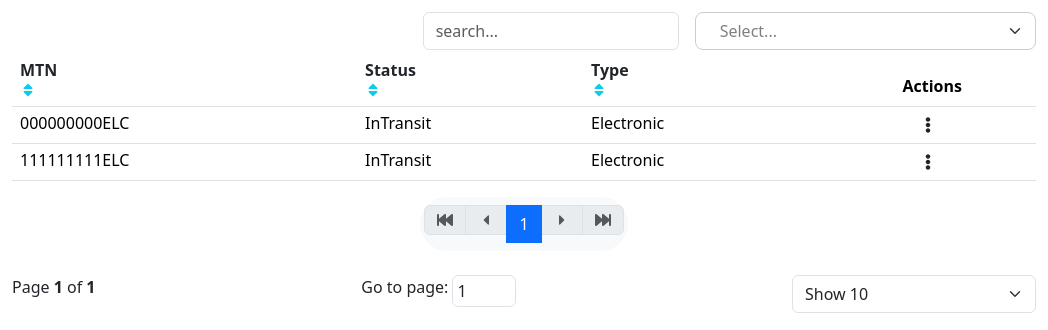
MtnTable › filters
Type "00000" into the field with placeholder "search..." at (551, 31), box [423, 12, 679, 50]
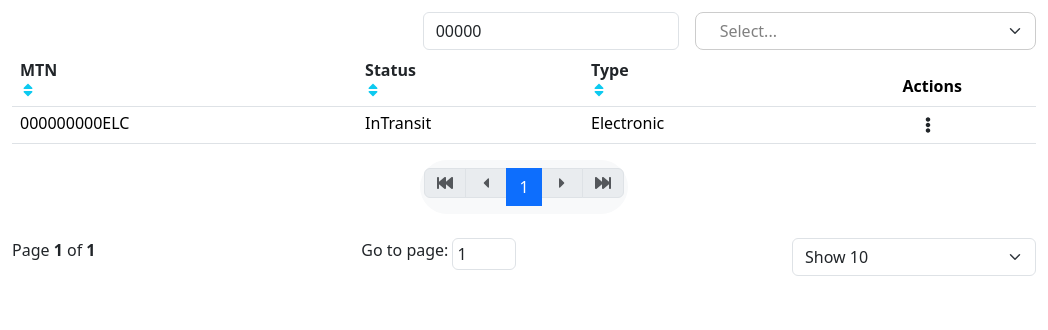
Expected: the link "000000000ELC" is shown, [20, 112, 130, 134]
Expected: the link "111111111ELC" is gone
